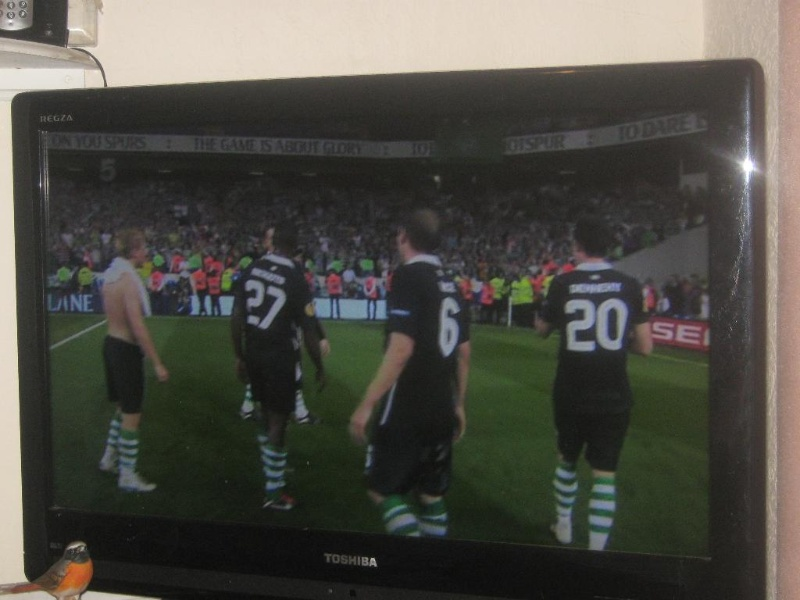tv: (10, 62, 771, 598)
